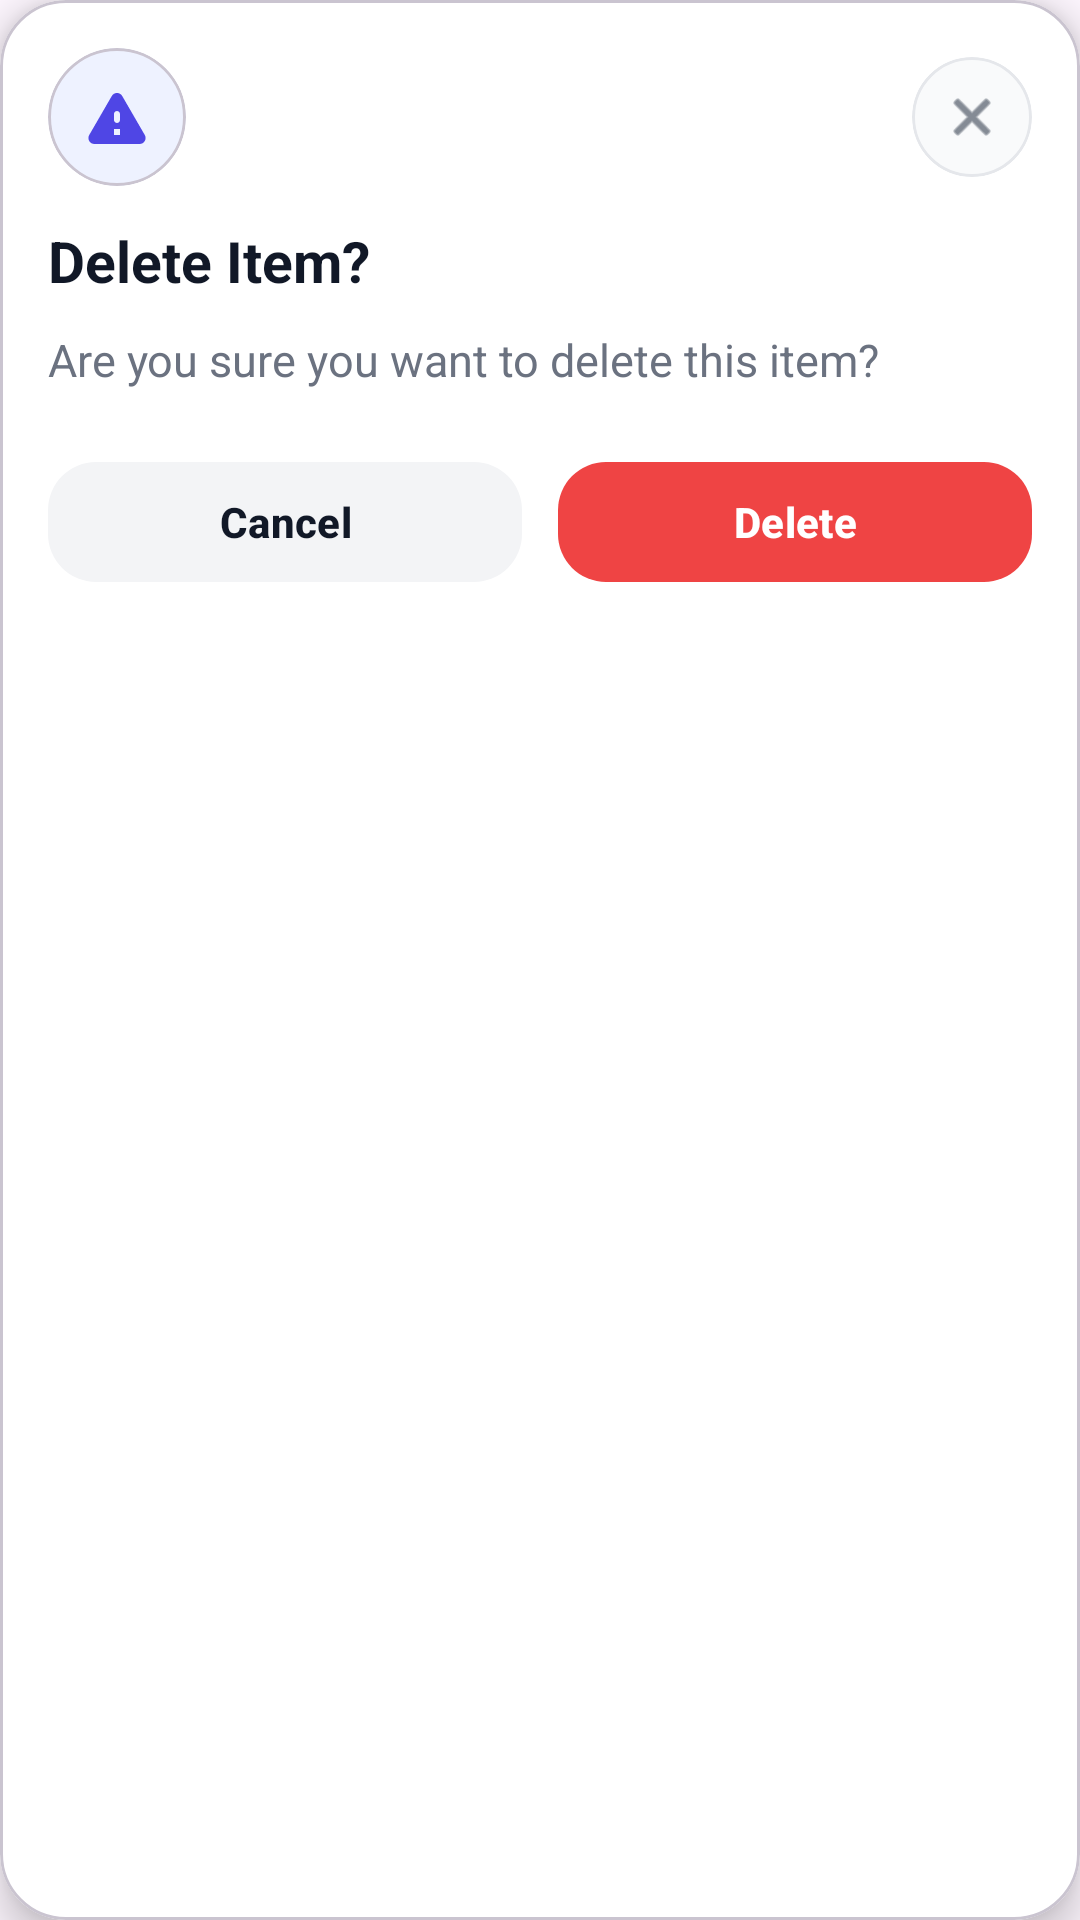

Locate icon controls on the screen. Image size 1080*1920, boxes as (x1, y1, x2, y2).
close clear cancel: (912, 57, 1032, 177)
warning: (48, 48, 186, 186)
